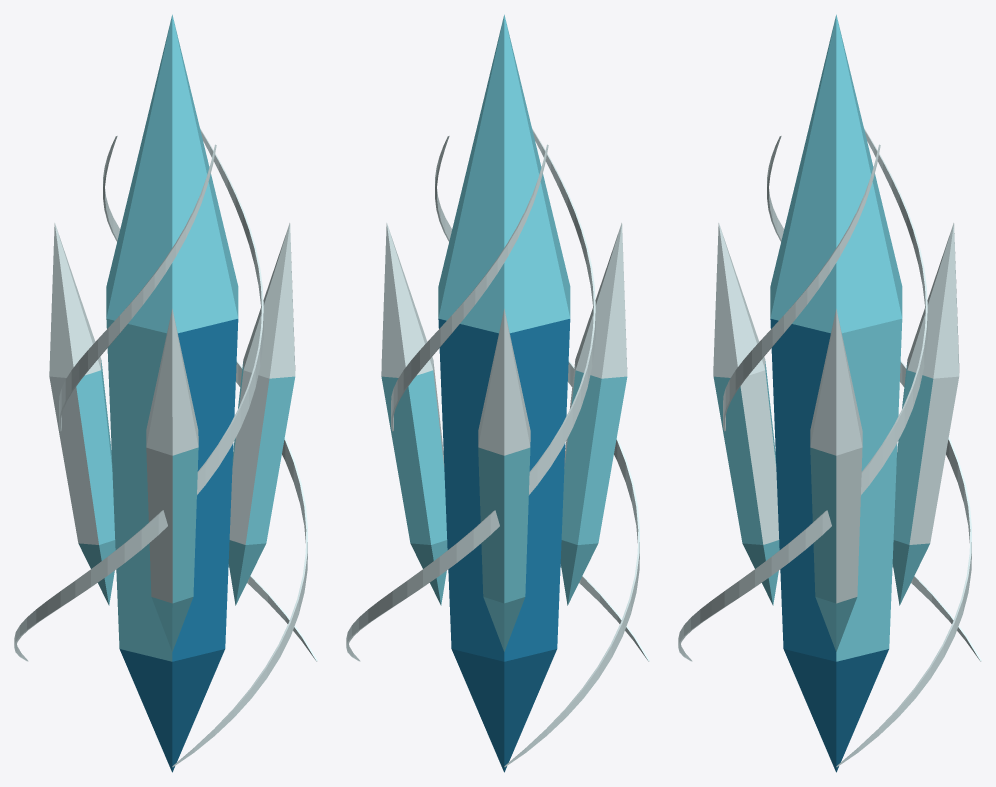
The model's file is VFX_41_GeloLanciaAurora.fbx.
3 renders of one model, left to right at view 1: azimuth 30°, elevation 25°; view 2: azimuth 150°, elevation 25°; view 3: azimuth 270°, elevation 25°, orthographic.
Visible parts, largest first — view 1: VFX_41_GeloLanciaAurora; view 2: VFX_41_GeloLanciaAurora; view 3: VFX_41_GeloLanciaAurora.
Boxes of the visible parts, box(x1,y1,x2,y2) form: VFX_41_GeloLanciaAurora: box(14, 14, 317, 772); VFX_41_GeloLanciaAurora: box(346, 14, 649, 772); VFX_41_GeloLanciaAurora: box(678, 14, 981, 772).
Bounding box in the file's own units: 151 × 401 × 145.
Materials: 1 (1 with a texture image).
